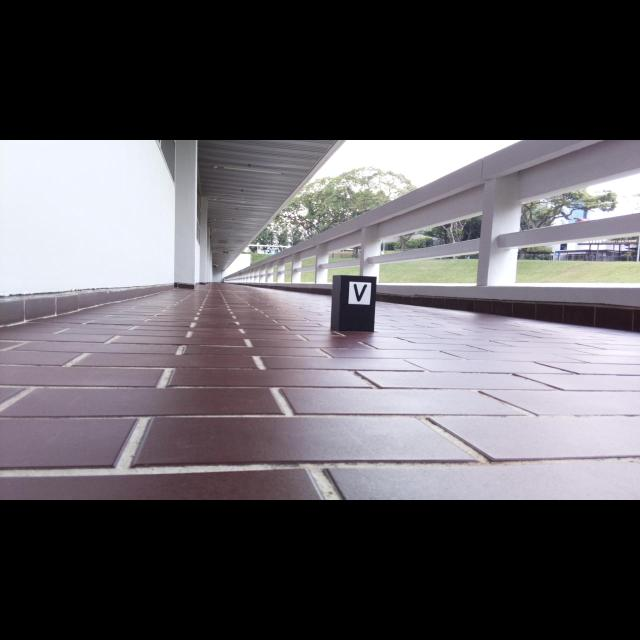V: (353, 284, 367, 302)
